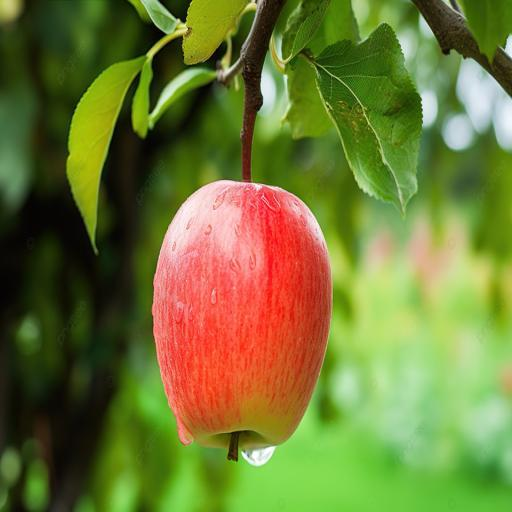apple: (153, 181, 332, 459)
